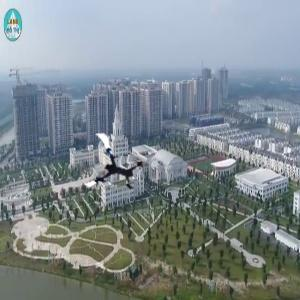drone: (80, 137, 146, 203)
